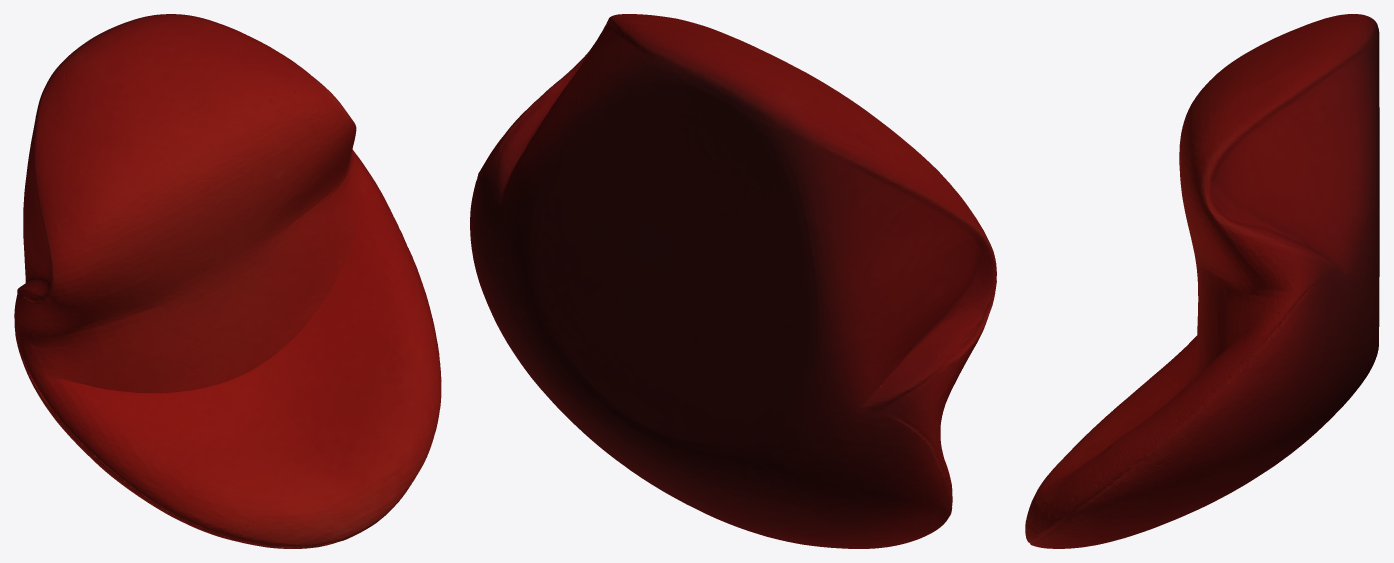
The picture shows the model from 3 angles, left to right: view 1: azimuth 30°, elevation 25°; view 2: azimuth 150°, elevation 25°; view 3: azimuth 270°, elevation 25°; orthographic projection. The views are drawn at different scales.
Size of the model in its own units: 0.9009 by 1.03 by 0.6818.
1 material, 1 textured.
